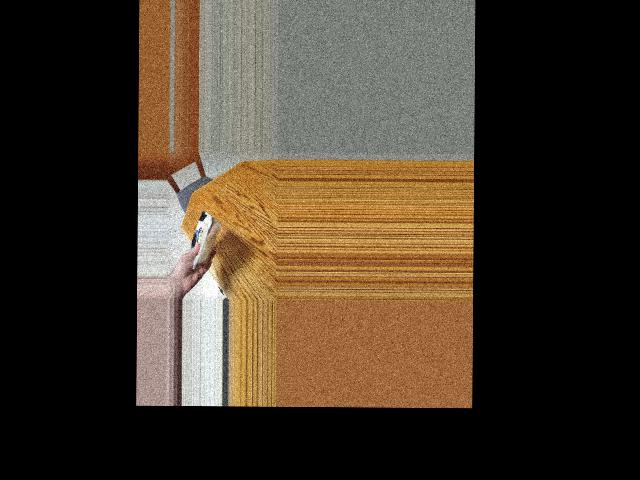cheese: (181, 213, 224, 264)
